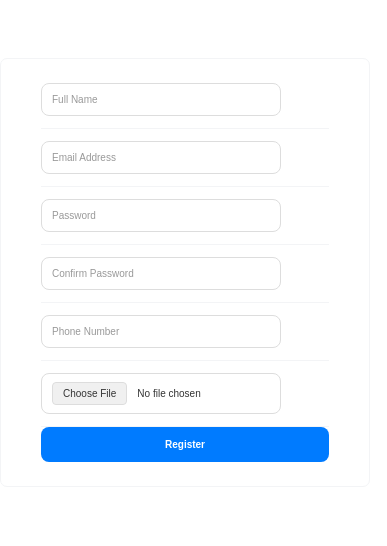
Test case: RegistrationForm › Form Validation › validates password match
# Fill in mismatched passwords
In the password field with placeholder "Password": [161, 215] box 41,198 -> 281,232, type "password123"
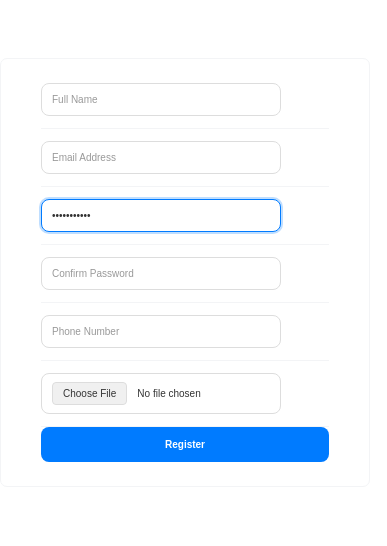
In the password field with placeholder "Confirm Password": [161, 273] box 41,256 -> 281,290, type "differentpassword"
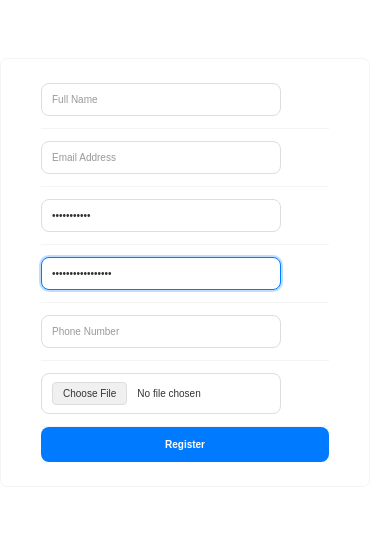
Click the button "Register": [185, 444] box 41,426 -> 329,462
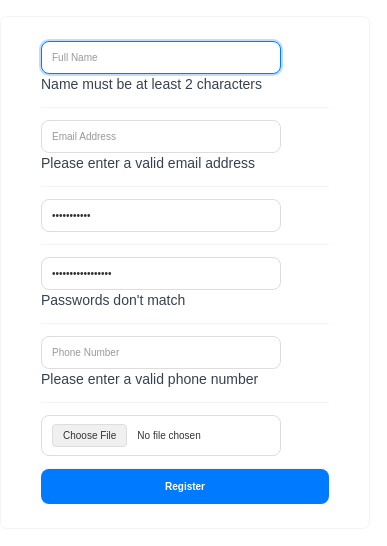
Expected: the text "Passwords don't match" is shown, 41,292 -> 185,308
